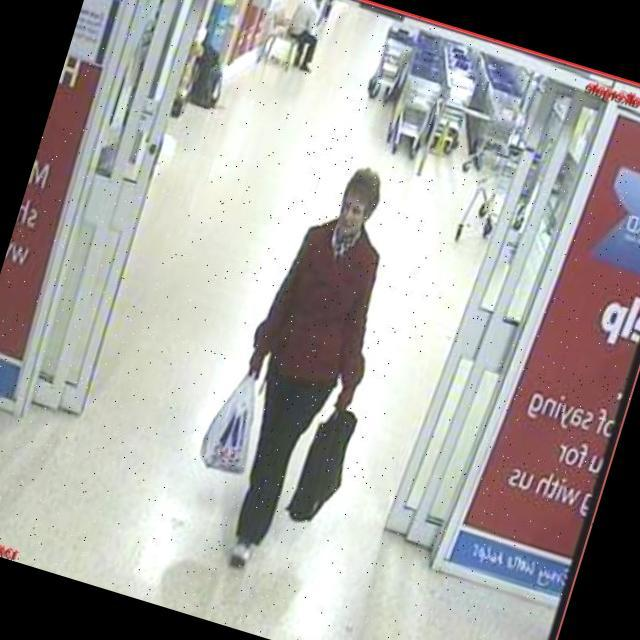person: (148, 105, 446, 598), (271, 0, 338, 93)
